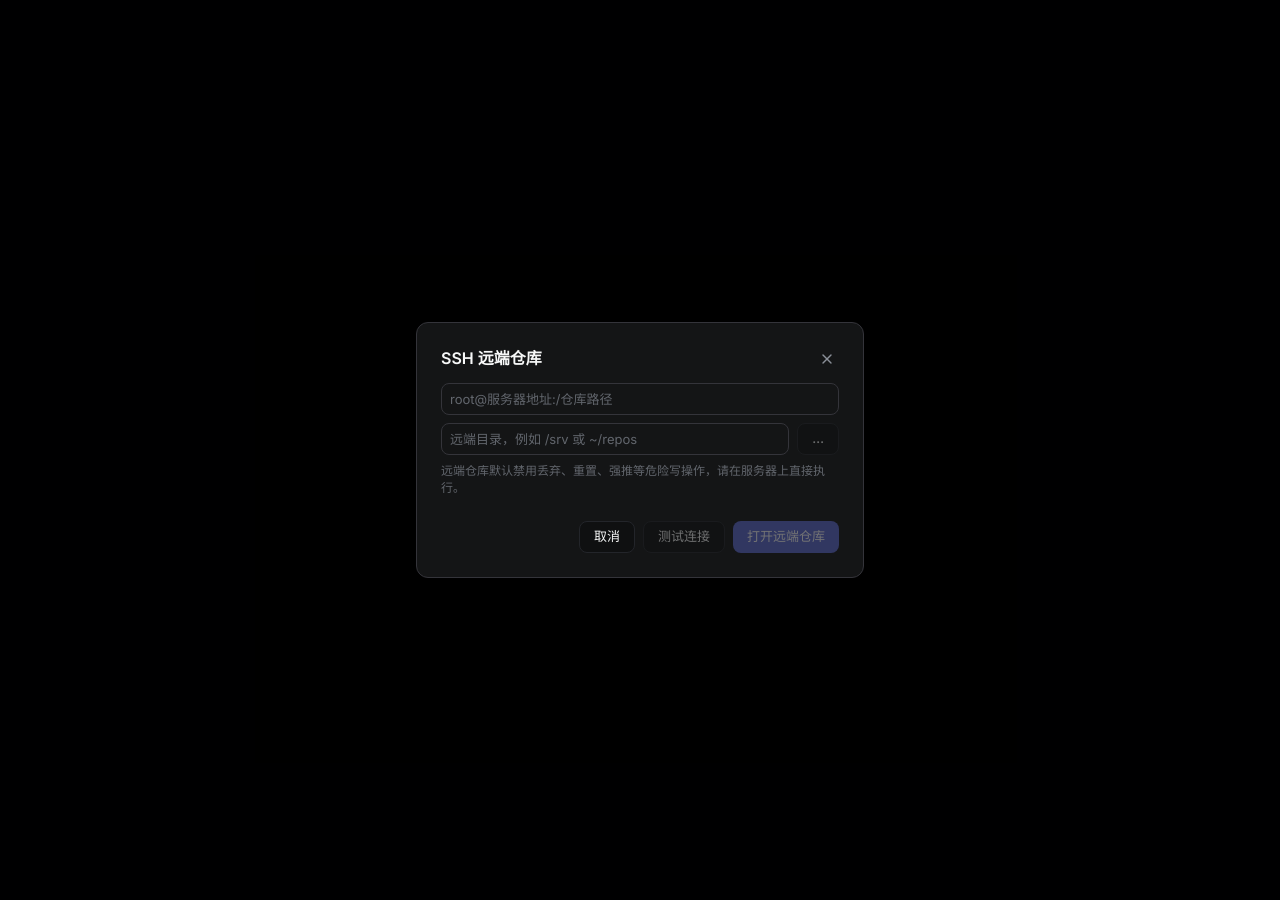
SshDialog › tests the connection and shows the canonical URI on success
Type "root@host:/srv/repo" into the field with test id "ssh-location-input" at [640, 399], box [441, 383, 839, 415]
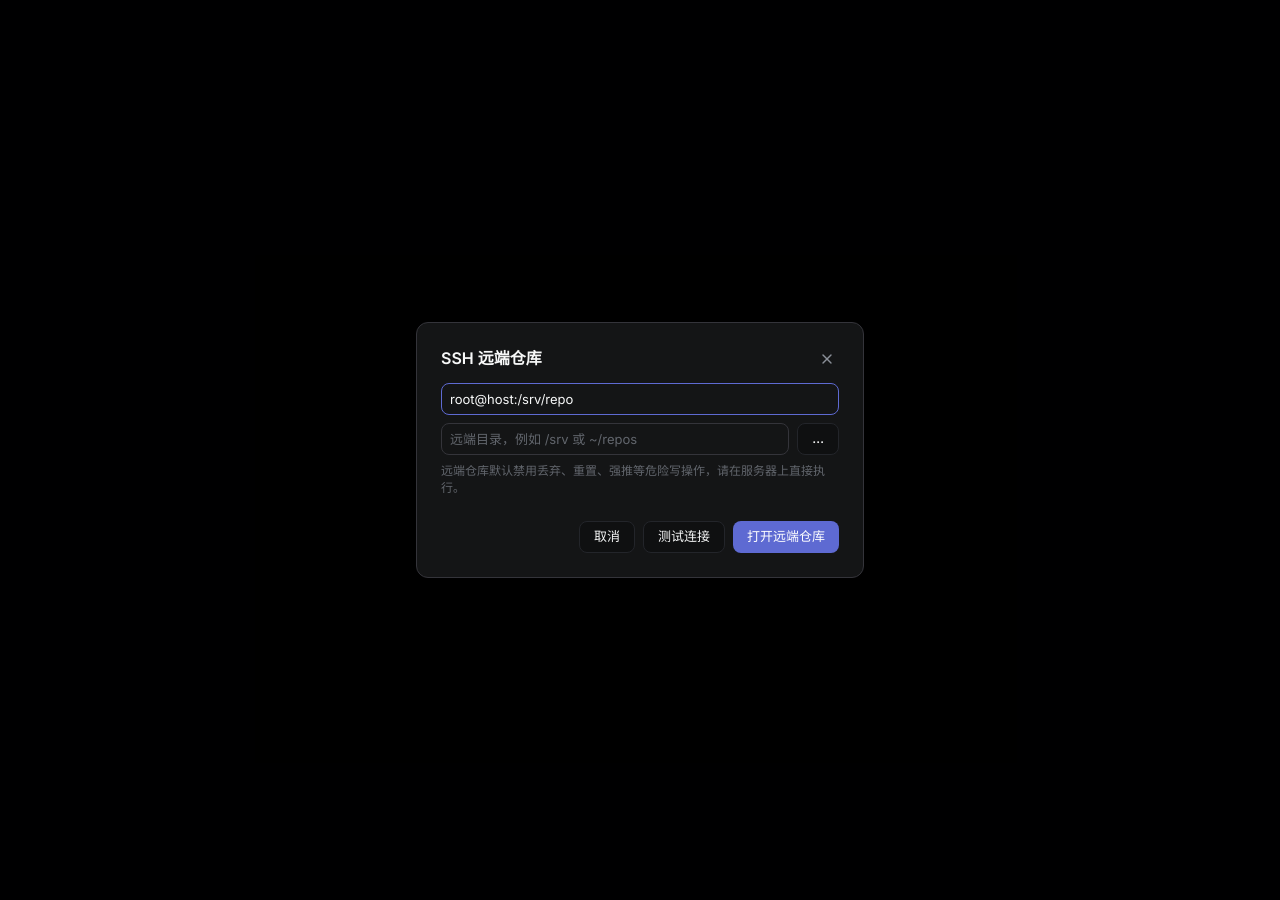
Click the button with test id "ssh-test" at [684, 537], box [643, 521, 725, 553]
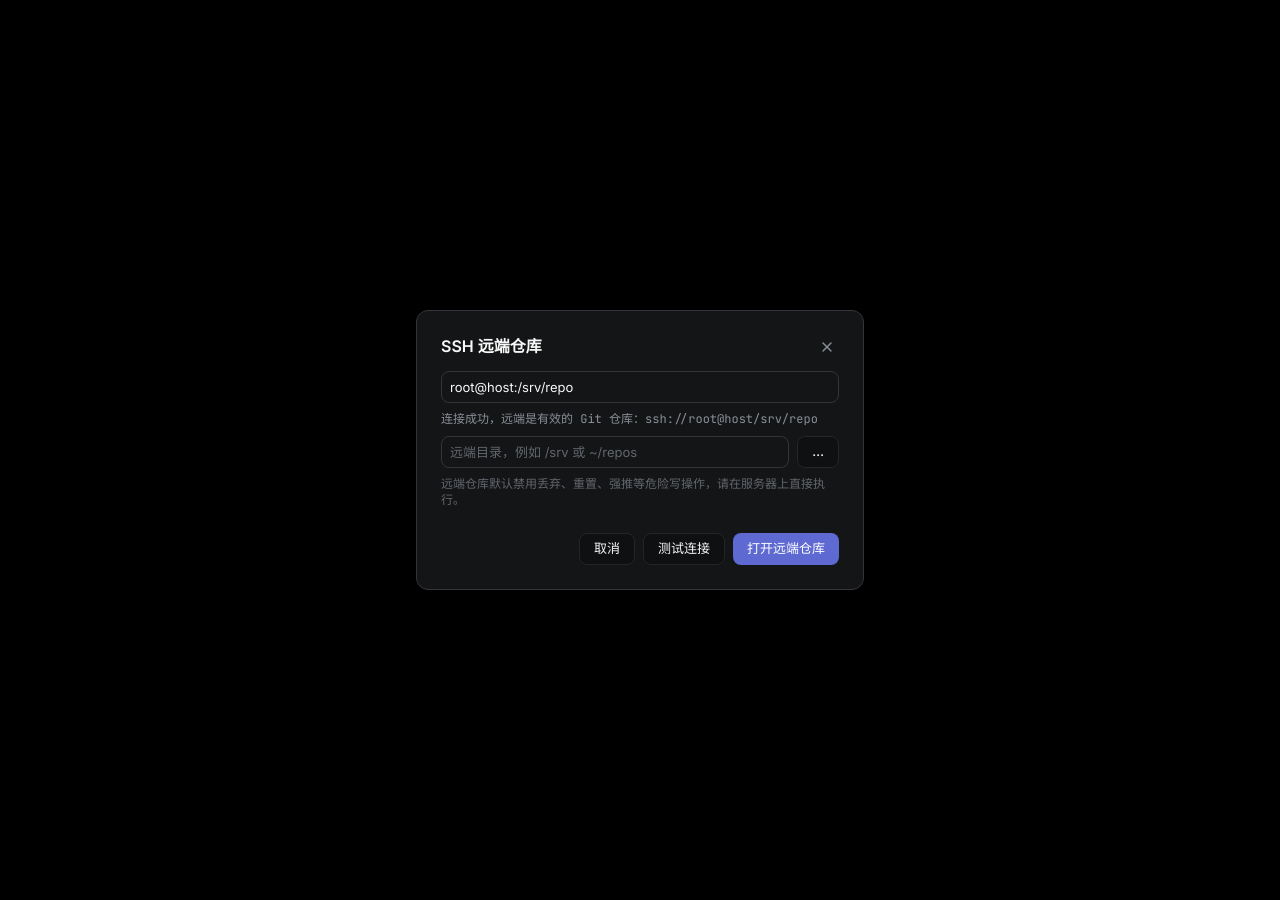
Expected: the text with test id "ssh-test-ok" shows "ssh://root@host/srv/repo", [645, 411, 818, 427]
